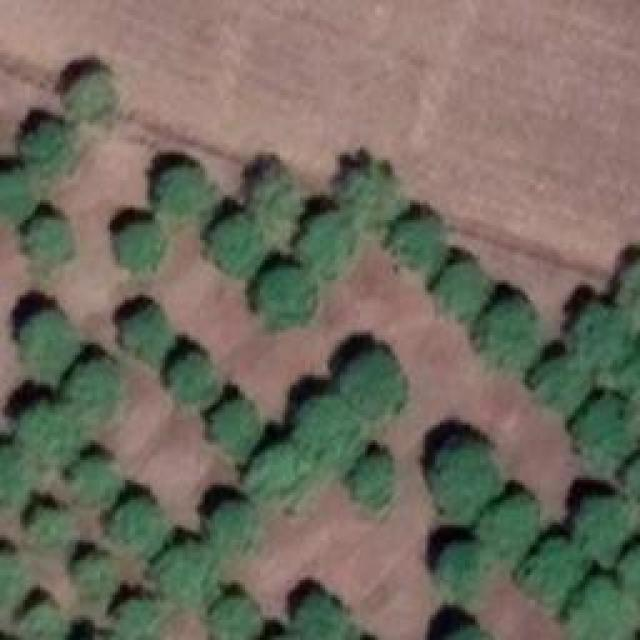Tree: (513, 522, 588, 600), (335, 348, 413, 414), (568, 295, 634, 371), (560, 578, 639, 640), (436, 433, 504, 505), (568, 490, 637, 558), (577, 389, 640, 462), (12, 398, 83, 462), (483, 490, 549, 558), (295, 393, 365, 457), (432, 538, 500, 600), (472, 298, 537, 362), (150, 538, 212, 604), (385, 210, 448, 273), (13, 307, 79, 366), (245, 440, 312, 497), (340, 163, 403, 223), (300, 210, 360, 273), (258, 262, 316, 327), (62, 355, 121, 417), (346, 447, 404, 506), (165, 350, 223, 408), (205, 498, 262, 556), (213, 210, 268, 270), (295, 590, 360, 640), (157, 163, 217, 217), (58, 65, 124, 114), (120, 302, 177, 358), (68, 458, 126, 513), (25, 507, 84, 561), (208, 400, 267, 453), (108, 495, 163, 551), (245, 170, 300, 225), (535, 353, 584, 414), (200, 588, 257, 640), (75, 547, 126, 604), (440, 262, 489, 321), (607, 252, 640, 339), (113, 220, 168, 269), (20, 213, 74, 259), (25, 120, 74, 169), (605, 527, 640, 595), (0, 453, 34, 516), (0, 169, 41, 218), (20, 603, 66, 640), (115, 600, 156, 639), (0, 540, 20, 617)
